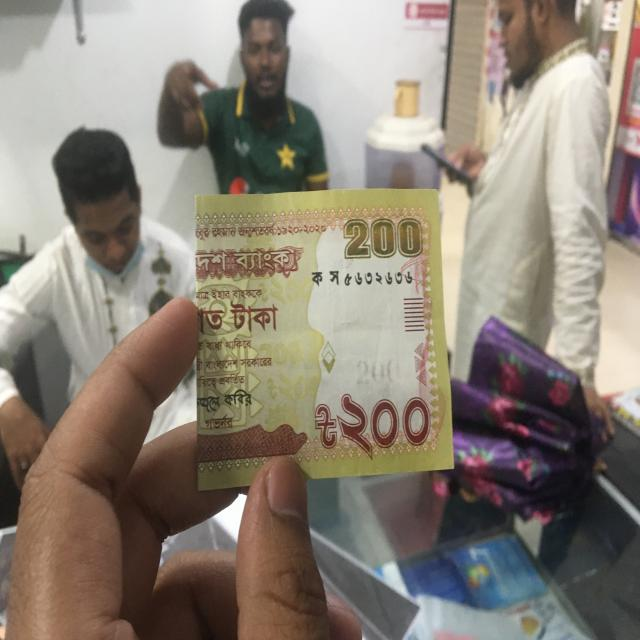Taka: (190, 193, 452, 478)
